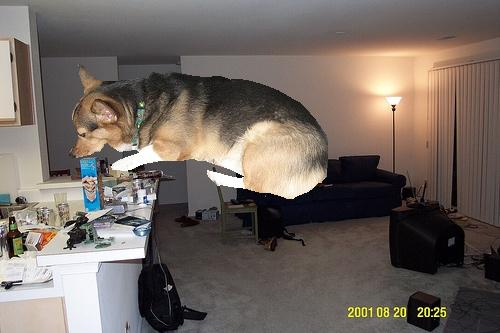tampered: (70, 64, 328, 199)
